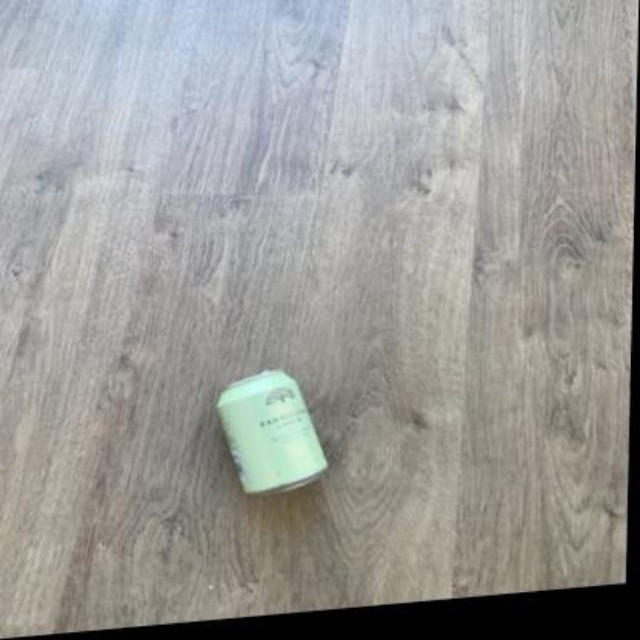trash: (217, 369, 326, 491)
